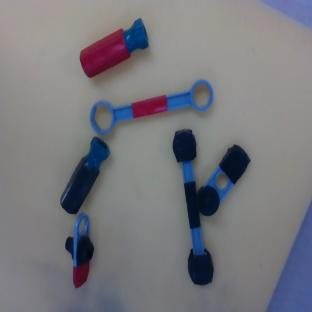part_1_bad: (188, 142, 255, 219)
part_1_good: (60, 213, 100, 288)
part_2_bad: (54, 135, 114, 217)
part_2_good: (74, 17, 155, 79)
part_3_bad: (169, 129, 215, 286)
part_3_good: (86, 75, 217, 137)
